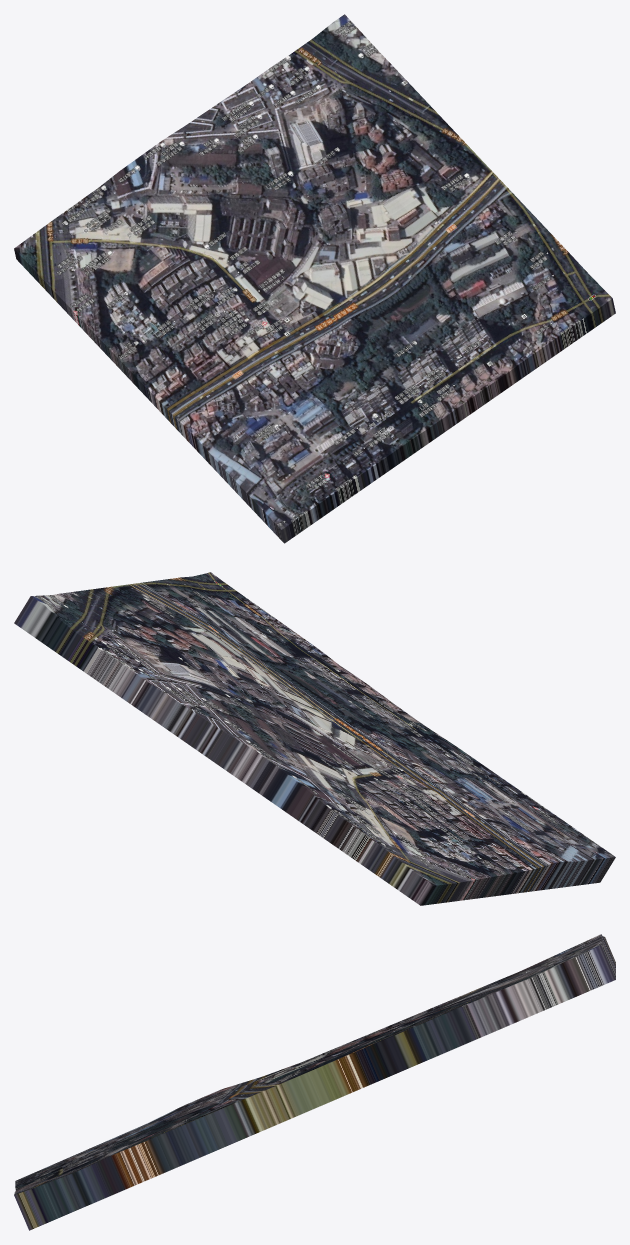
3 renders of one model, top to bottom at view 1: azimuth 30°, elevation 25°; view 2: azimuth 150°, elevation 25°; view 3: azimuth 270°, elevation 25°, orthographic. The views are drawn at different scales.
Parts seen in each view (by area): view 1: 0_2_21; view 2: 0_2_21; view 3: 0_2_21.
Boxes of the visible parts, x1=… form: 0_2_21: x1=14, y1=14, x2=615, y2=543; 0_2_21: x1=14, y1=572, x2=615, y2=905; 0_2_21: x1=14, y1=934, x2=615, y2=1230.
Size of the model in its own units: 601 by 458 by 556.
1 material, 1 textured.
